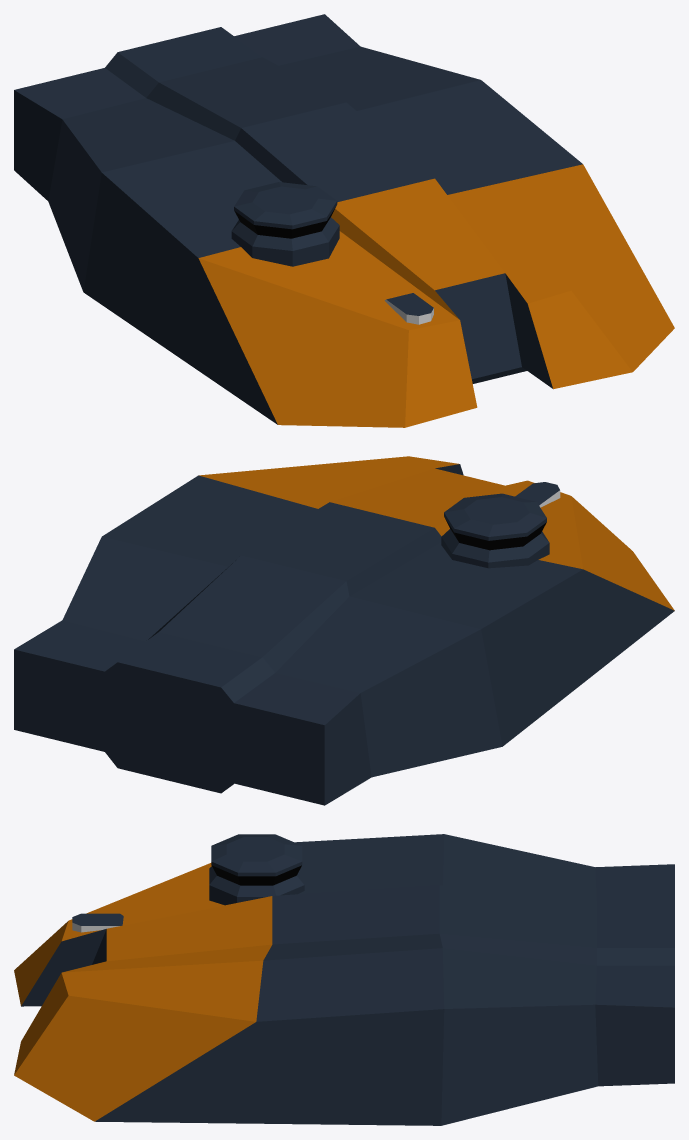
The model's file is lav_turret.fbx.
3 renders of one model, top to bottom at view 1: azimuth 30°, elevation 25°; view 2: azimuth 150°, elevation 25°; view 3: azimuth 270°, elevation 25°, orthographic. The views are drawn at different scales.
Parts seen in each view (by area): view 1: Turret; view 2: Turret; view 3: Turret.
Part boxes in pixels (x1,y1,x2,y2): Turret: (14, 14, 674, 427); Turret: (14, 456, 674, 805); Turret: (14, 834, 674, 1125).
Bounding box in the file's own units: 285 × 92.53 × 411.
